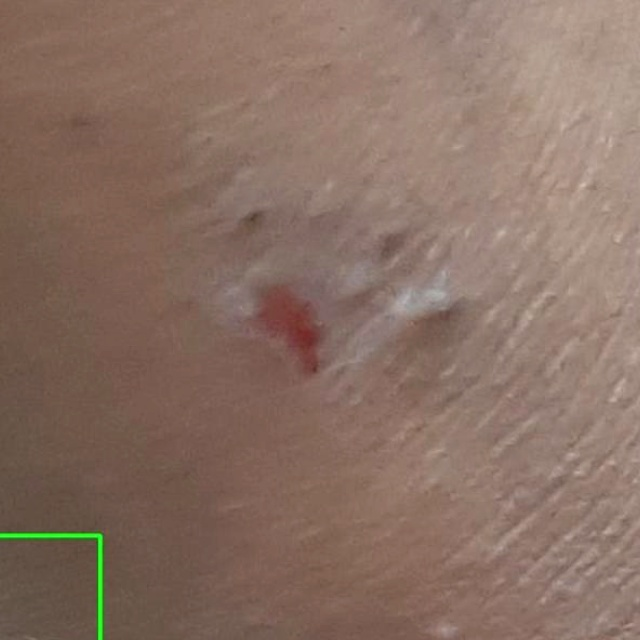Atopic Dermatitis: (0, 535, 100, 639)
